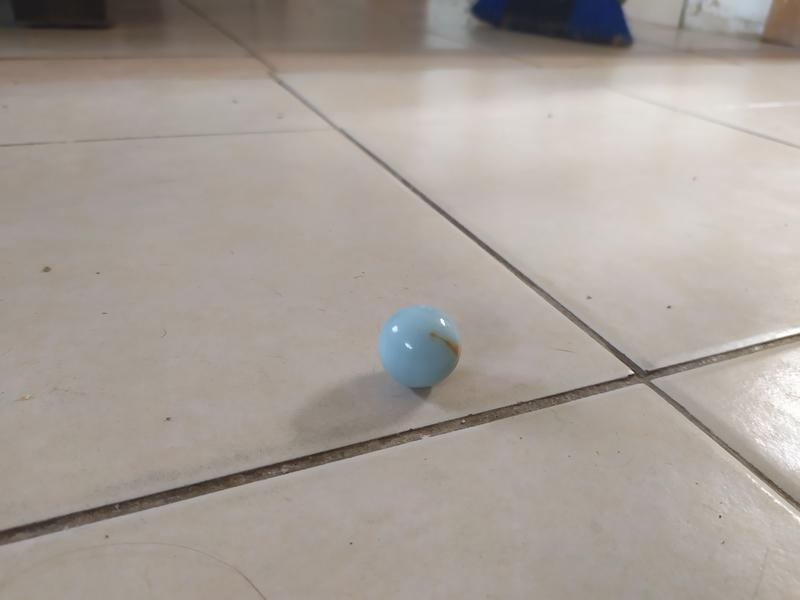Warning: (372, 300, 468, 392)
